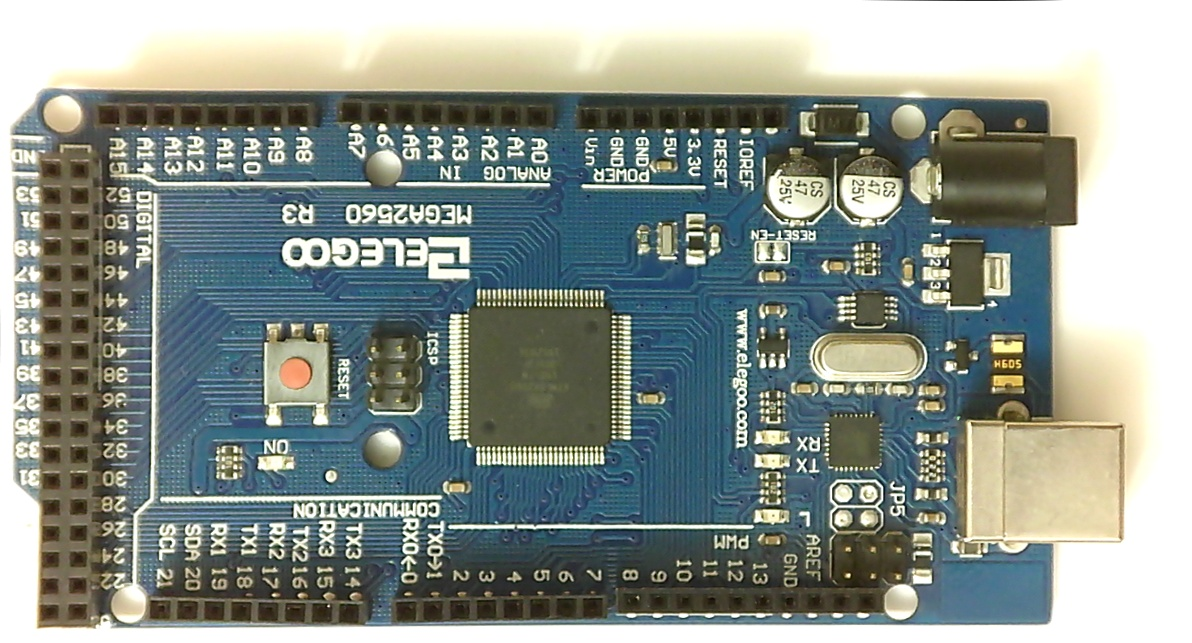arduino_mega: (5, 88, 1128, 633)
